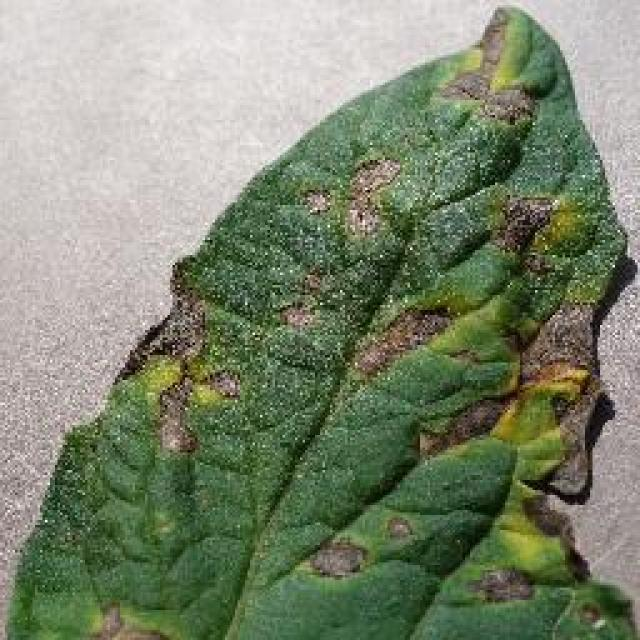Tomato_Early_Blight: (139, 4, 637, 640)
